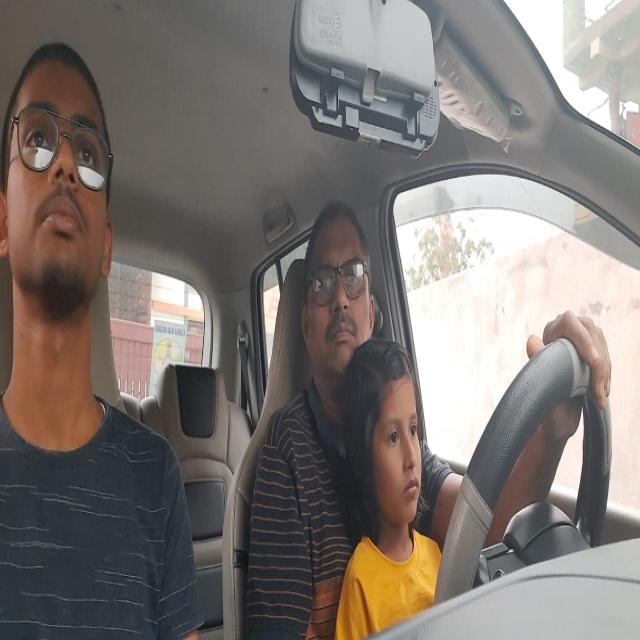child: (352, 332, 428, 530)
person: (0, 37, 123, 329), (297, 202, 381, 366)
